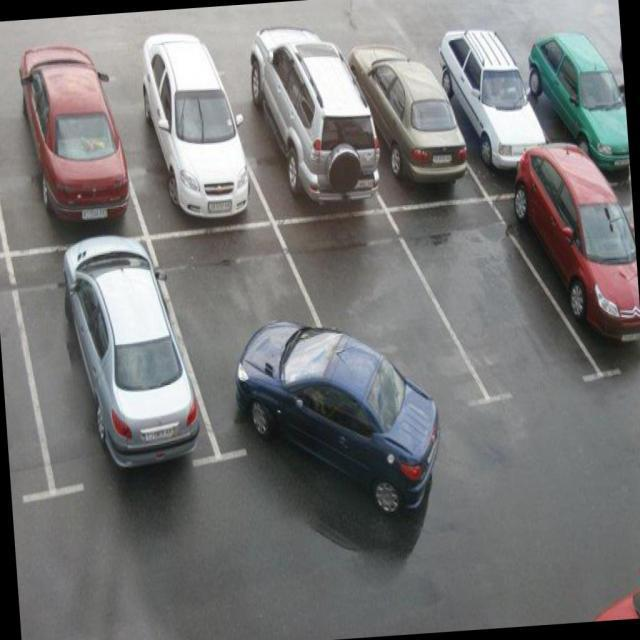car: (27, 218, 196, 509), (159, 222, 329, 482), (314, 204, 470, 422), (503, 164, 639, 388), (224, 42, 374, 220), (0, 76, 144, 260), (115, 52, 263, 230), (345, 51, 473, 209), (519, 20, 630, 183), (447, 42, 554, 196)
free: (411, 184, 588, 422)
